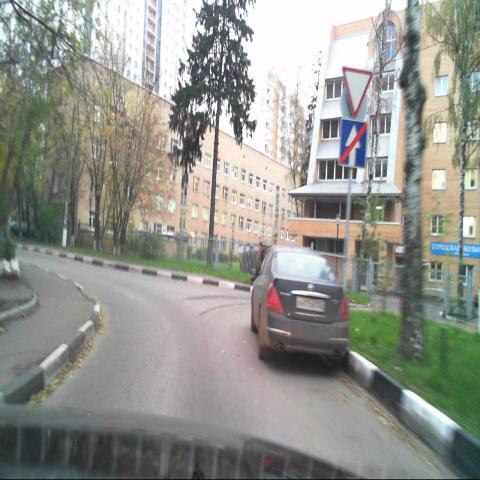2_4: (343, 67, 372, 118)
5_6: (340, 120, 366, 168)
